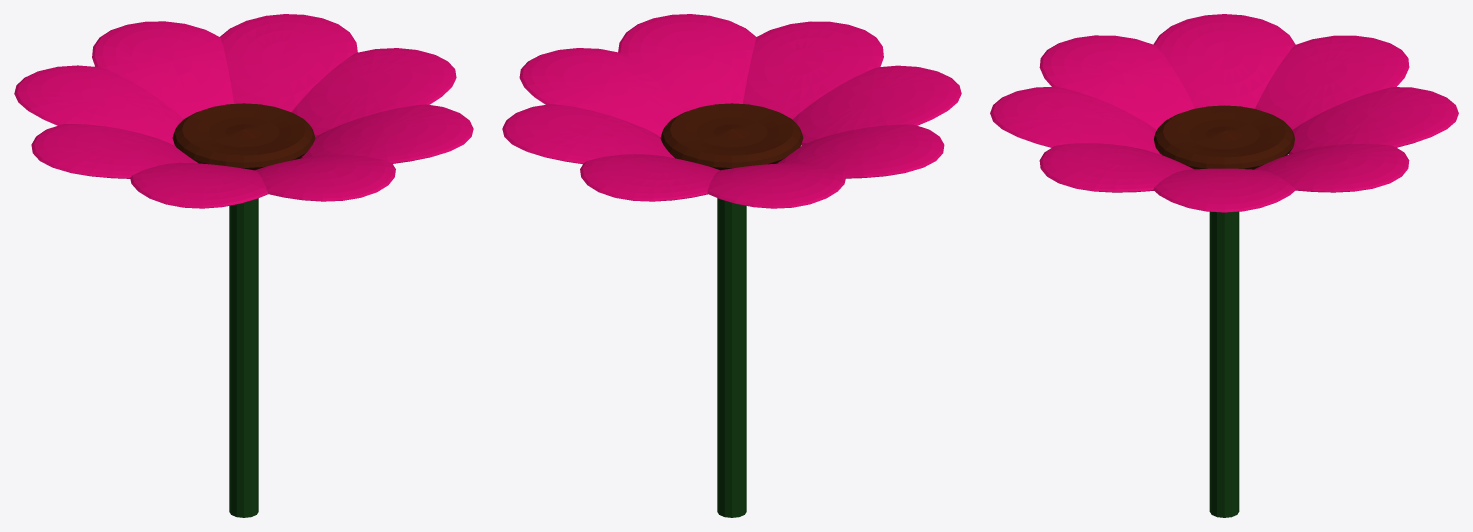
The model's file is PinkOption.fbx.
The picture shows the model from 3 angles, left to right: view 1: azimuth 30°, elevation 25°; view 2: azimuth 150°, elevation 25°; view 3: azimuth 270°, elevation 25°; orthographic projection.
Visible parts, largest first — view 1: Flower_0_0; view 2: Flower_0_0; view 3: Flower_0_0.
Boxes of the visible parts, box(x1,y1,x2,y2) form: Flower_0_0: box(14, 14, 473, 517); Flower_0_0: box(502, 14, 961, 517); Flower_0_0: box(990, 14, 1458, 517).
Size of the model in its own units: 1.81 by 1.71 by 1.81.
